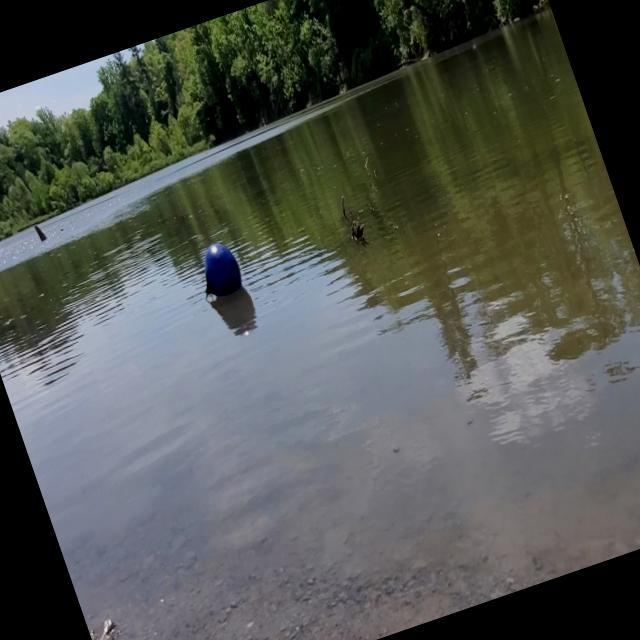buoy: (187, 233, 251, 304)
